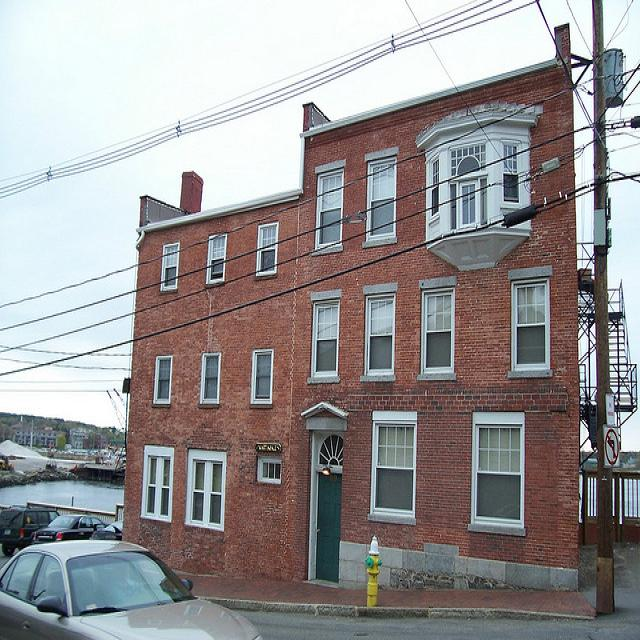Vehicle: (0, 536, 265, 638), (0, 509, 58, 556), (30, 515, 110, 545)
